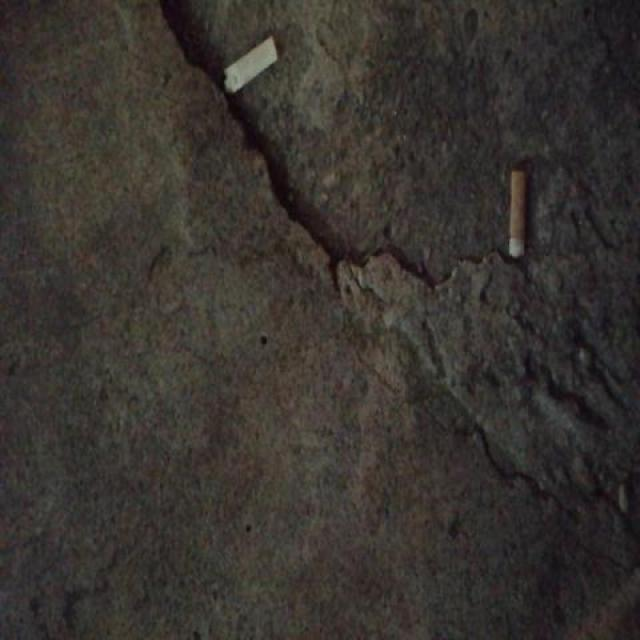non-organic waste: (218, 29, 282, 99), (504, 166, 532, 262)
